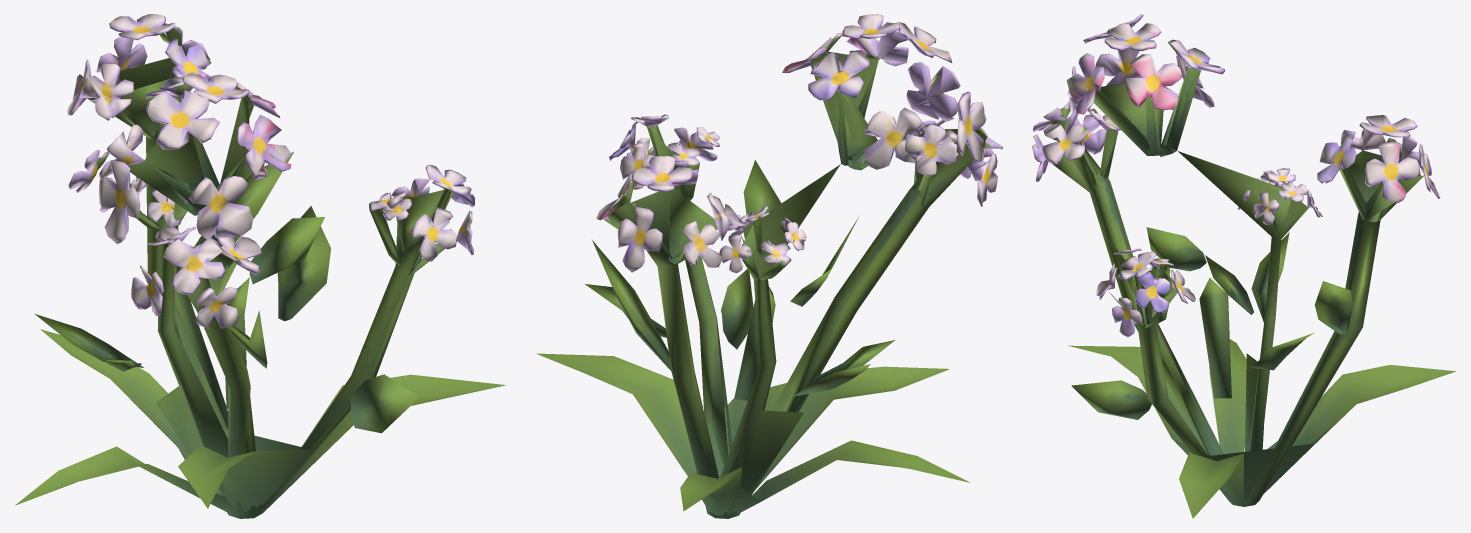
The model's file is wildflower_cluster.glb.
3 views of the same model, side by side, from view 1: azimuth 30°, elevation 25°; view 2: azimuth 150°, elevation 25°; view 3: azimuth 270°, elevation 25° (orthographic). The views are drawn at different scales.
Visible parts, largest first — view 1: tripo_node_beb235af-9441-4833-8620-55905c0e58bc; view 2: tripo_node_beb235af-9441-4833-8620-55905c0e58bc; view 3: tripo_node_beb235af-9441-4833-8620-55905c0e58bc.
Boxes of the visible parts, x1,y1,x2,y2 form: tripo_node_beb235af-9441-4833-8620-55905c0e58bc: (14, 14, 506, 518); tripo_node_beb235af-9441-4833-8620-55905c0e58bc: (536, 14, 1003, 518); tripo_node_beb235af-9441-4833-8620-55905c0e58bc: (1032, 14, 1455, 518).
Size of the model in its own units: 0.998 by 0.9941 by 0.8926.
1 material, 1 textured.
